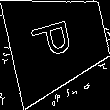P_E: (33, 18, 83, 66)
